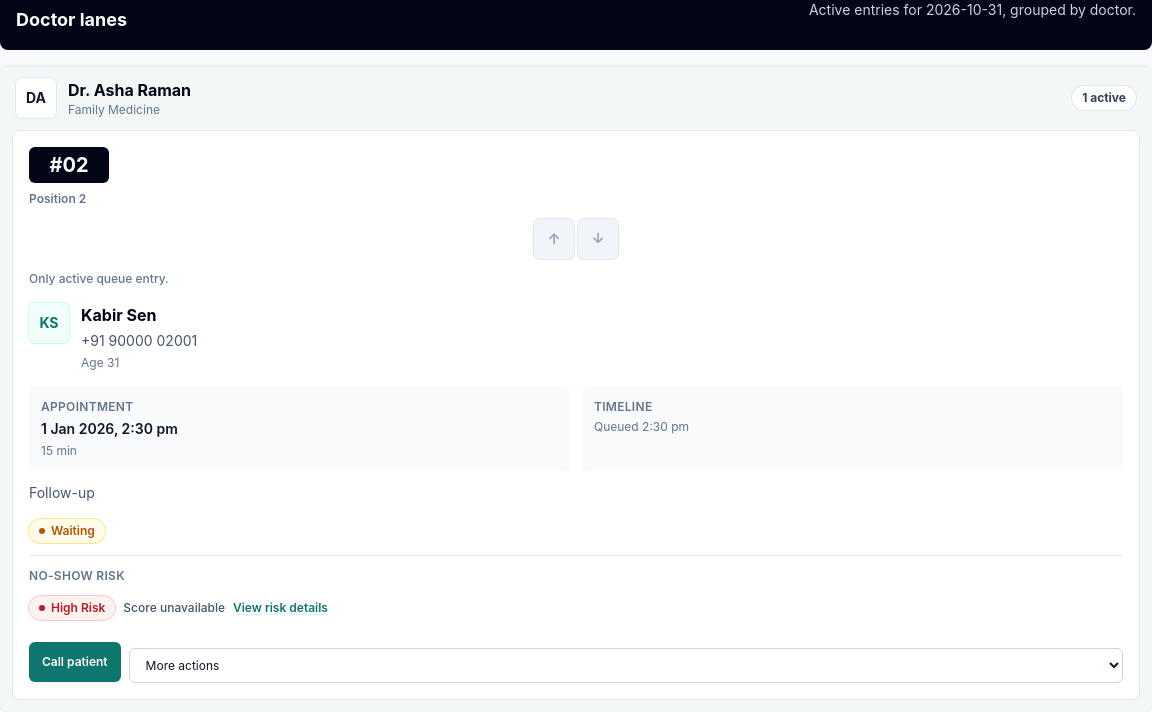
QueuePage manual reorder controls › opens the shared risk details dialog from a compact queue summary
The width and height of the screenshot is (1152, 712).
(page scrolled)
What coordinates should you click on to do the following:
click the button with aria-label "View risk details for Kabir Sen"
I would click on:
 (280, 608)
Its box is [233, 588, 328, 628].
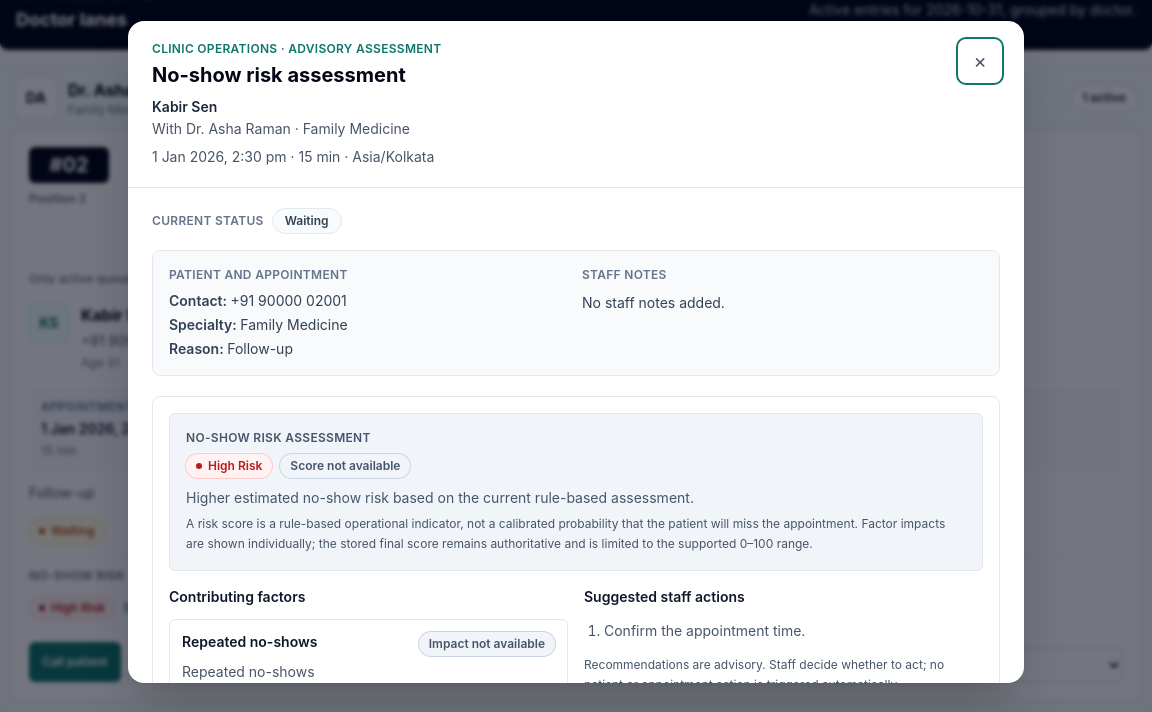
Now the dialog "No-show risk assessment" is shown
Now the heading "Repeated no-shows" is shown, box [182, 632, 317, 652]
Now the list item "Confirm the appointment time." is shown, box [604, 622, 805, 639]
